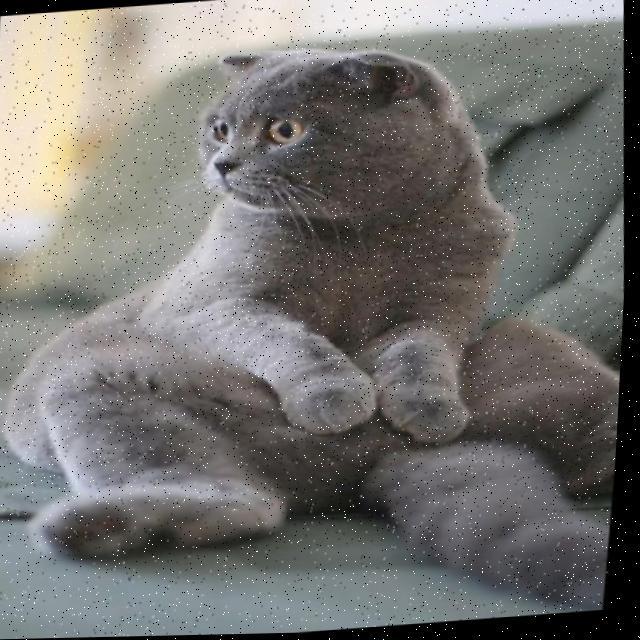Cats: (12, 51, 624, 612)
